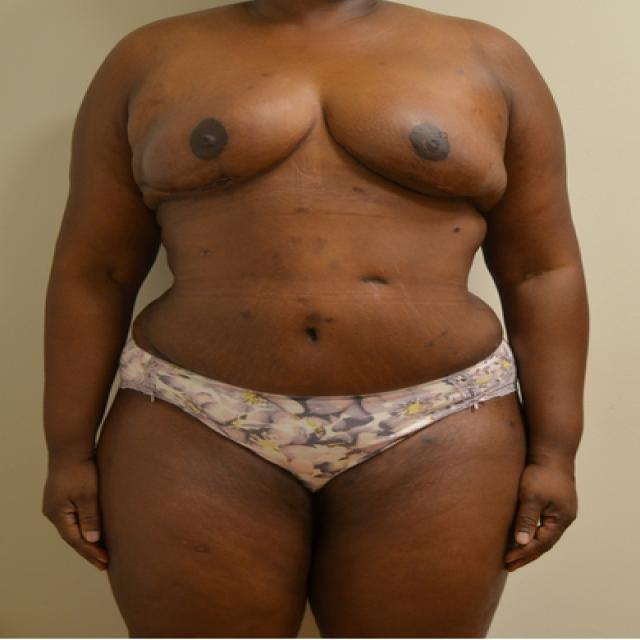Seno ileso: (322, 68, 513, 223), (126, 69, 316, 223)
